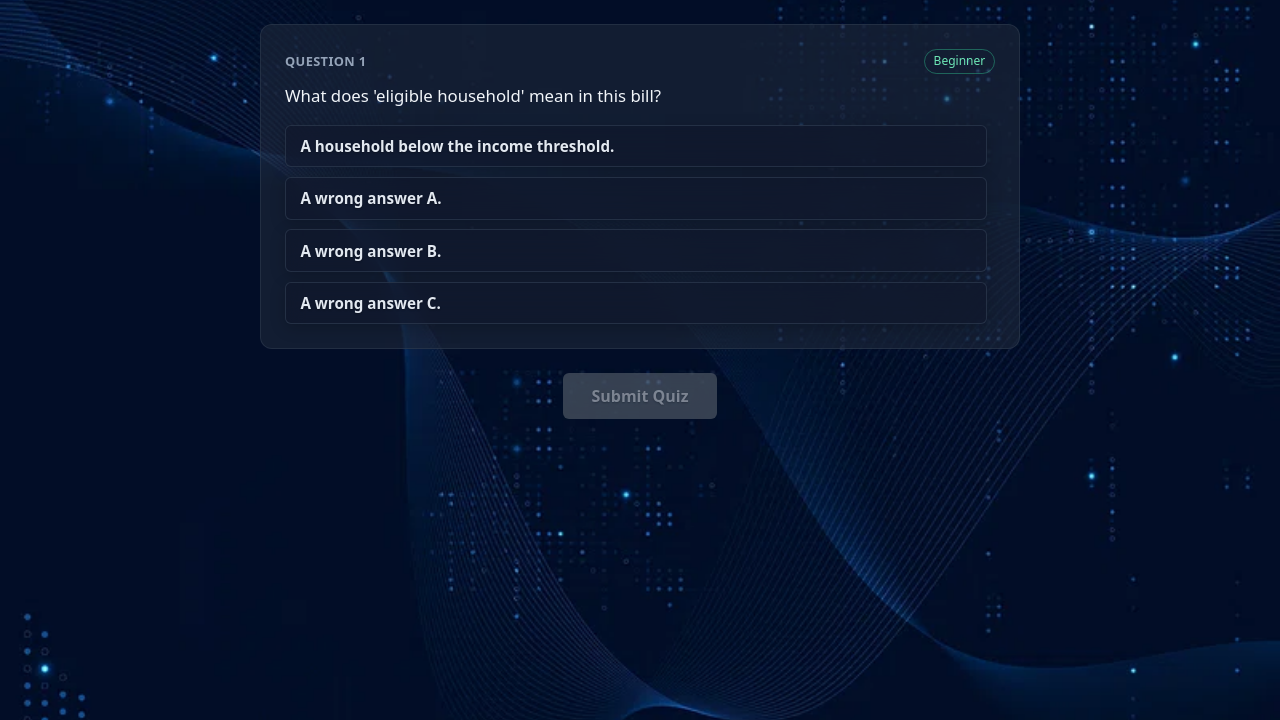
Test: LessonQuiz › locks answer selection after submission
The image size is (1280, 720).
Expected: the text "What does 'eligible household' mean in this bill?" is shown, [285, 84, 661, 107]
Click the button with test id "quiz-choice-q1-0" at point(457, 146), box [285, 125, 987, 167]
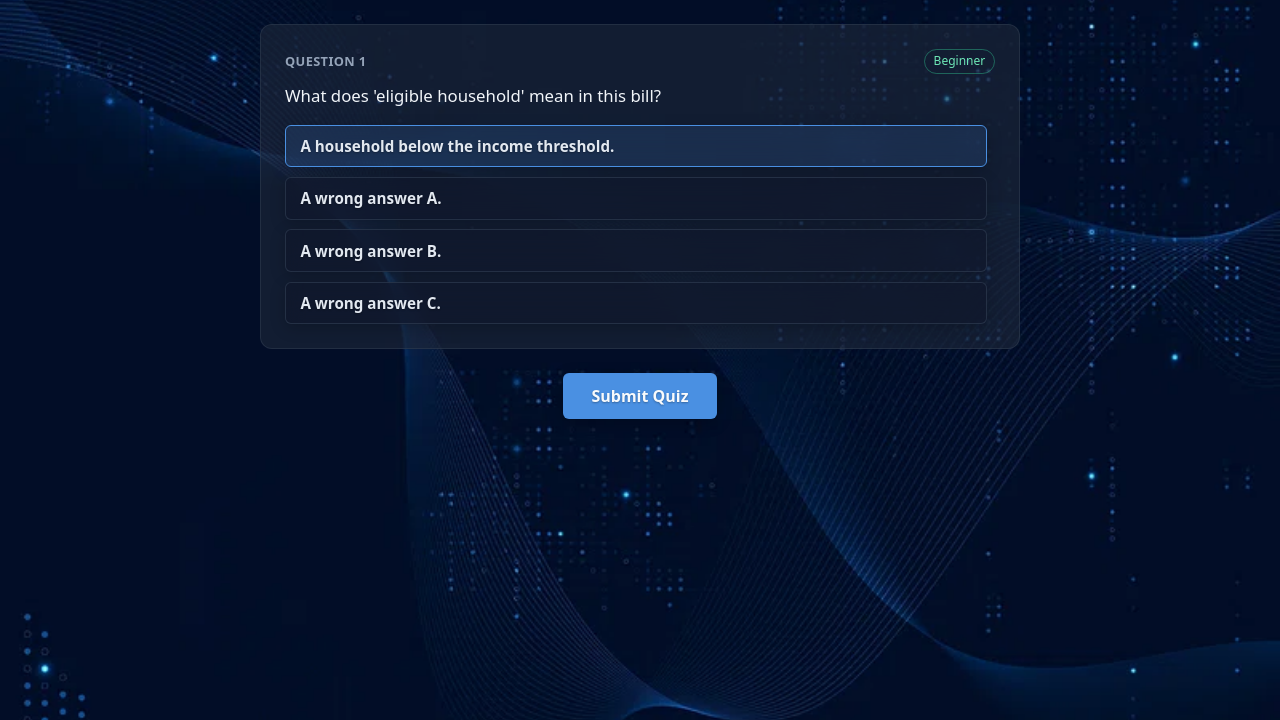
Click the button with test id "submit-quiz" at point(640, 396), box [564, 374, 717, 420]
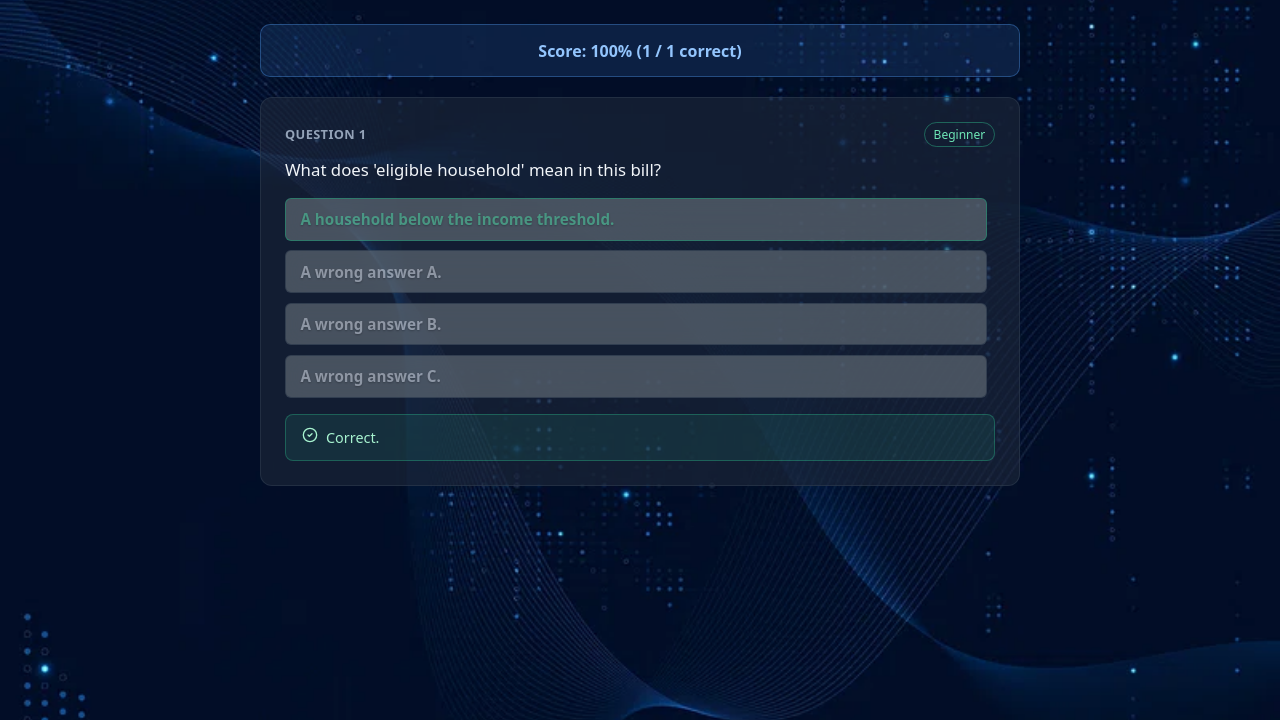
Result: the text "Score: 100% (1 / 1 correct)" is shown at [260, 24, 1020, 77]
Result: the button with test id "quiz-choice-q1-0" is disabled at [285, 198, 987, 241]
